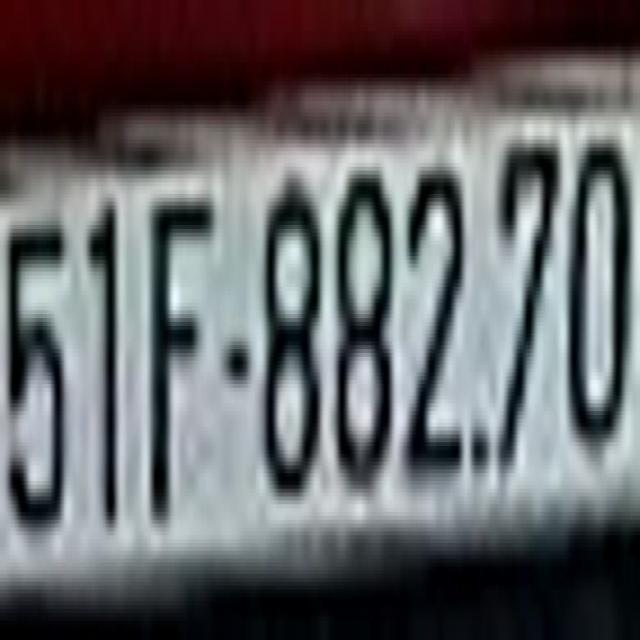0: (568, 132, 628, 438)
1: (86, 183, 126, 532)
2: (402, 170, 463, 492)
5: (6, 217, 66, 547)
7: (496, 144, 560, 492)
8: (332, 167, 392, 492), (263, 175, 320, 512)
F: (149, 182, 217, 528)
